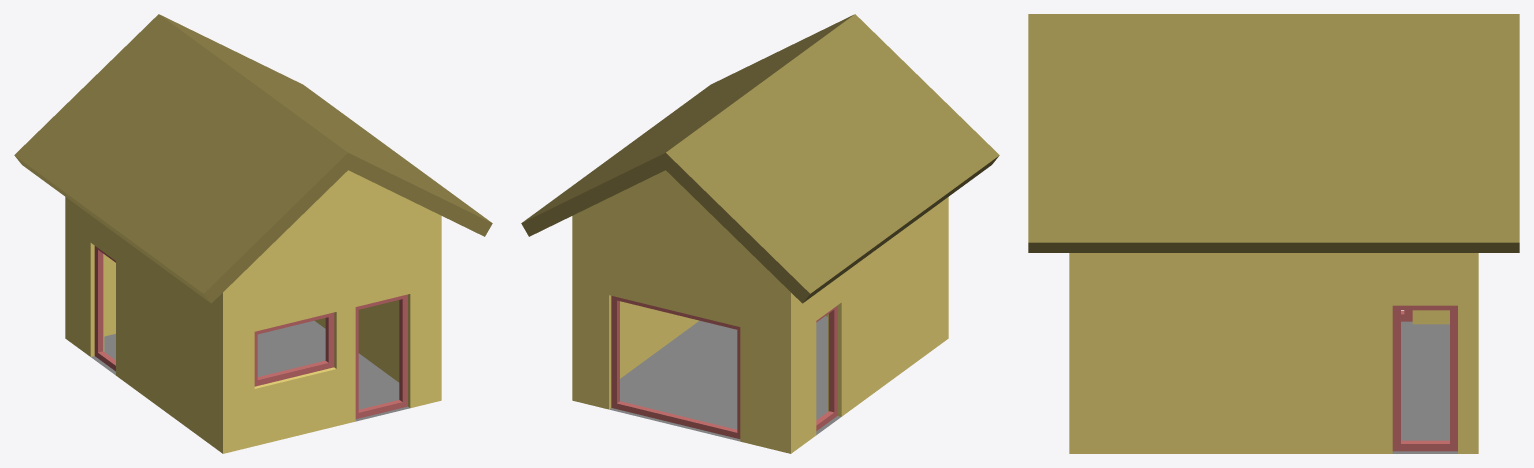
The model's file is result.glb.
The picture shows the model from 3 angles, left to right: view 1: azimuth 30°, elevation 25°; view 2: azimuth 150°, elevation 25°; view 3: azimuth 270°, elevation 25°; orthographic projection. The views are drawn at different scales.
Parts seen in each view (by area): view 1: e6a71a26-1859-4a8b-bc11-d1fb36dddd2f__undefined, cedd7b17-05c4-42f4-a46e-45d4d8d118d7__undefined (×2), 459c6ce4-f040-43da-a083-1d7c324f3df3__Plane_6, 1cea23b0-5793-4a4b-ac09-99bc3f062c52__Box, 98fe8617-4c77-4583-8f51-a00de79011a2__Box_3, f29e911e-2ca7-4f59-8ca8-3d0b62559ecd__Box_12; view 2: cedd7b17-05c4-42f4-a46e-45d4d8d118d7__undefined (×2), e6a71a26-1859-4a8b-bc11-d1fb36dddd2f__undefined, 459c6ce4-f040-43da-a083-1d7c324f3df3__Plane_6, 7598920a-3fb5-442e-b2a3-aba49a48ef5c__Box_9, f29e911e-2ca7-4f59-8ca8-3d0b62559ecd__Box_12; view 3: cedd7b17-05c4-42f4-a46e-45d4d8d118d7__undefined, e6a71a26-1859-4a8b-bc11-d1fb36dddd2f__undefined, 459c6ce4-f040-43da-a083-1d7c324f3df3__Plane_6, 583cd041-764c-476c-897c-c57d962e9f1d__Box_15.
Boxes of the visible parts, left/top/right/bottom form: e6a71a26-1859-4a8b-bc11-d1fb36dddd2f__undefined: left=65, top=170, right=441, bottom=453; cedd7b17-05c4-42f4-a46e-45d4d8d118d7__undefined (×2): left=14, top=14, right=492, bottom=303; 459c6ce4-f040-43da-a083-1d7c324f3df3__Plane_6: left=91, top=320, right=409, bottom=421; 1cea23b0-5793-4a4b-ac09-99bc3f062c52__Box: left=355, top=294, right=407, bottom=418; 98fe8617-4c77-4583-8f51-a00de79011a2__Box_3: left=254, top=312, right=334, bottom=386; f29e911e-2ca7-4f59-8ca8-3d0b62559ecd__Box_12: left=94, top=246, right=115, bottom=371; cedd7b17-05c4-42f4-a46e-45d4d8d118d7__undefined (×2): left=521, top=14, right=999, bottom=303; e6a71a26-1859-4a8b-bc11-d1fb36dddd2f__undefined: left=572, top=170, right=948, bottom=453; 459c6ce4-f040-43da-a083-1d7c324f3df3__Plane_6: left=609, top=316, right=840, bottom=441; 7598920a-3fb5-442e-b2a3-aba49a48ef5c__Box_9: left=611, top=295, right=740, bottom=438; f29e911e-2ca7-4f59-8ca8-3d0b62559ecd__Box_12: left=816, top=305, right=837, bottom=430; cedd7b17-05c4-42f4-a46e-45d4d8d118d7__undefined: left=1028, top=14, right=1519, bottom=252; e6a71a26-1859-4a8b-bc11-d1fb36dddd2f__undefined: left=1069, top=253, right=1478, bottom=453; 459c6ce4-f040-43da-a083-1d7c324f3df3__Plane_6: left=1392, top=321, right=1457, bottom=453; 583cd041-764c-476c-897c-c57d962e9f1d__Box_15: left=1392, top=305, right=1457, bottom=451.
Bounding box in the file's own units: 529 × 500 × 600.
